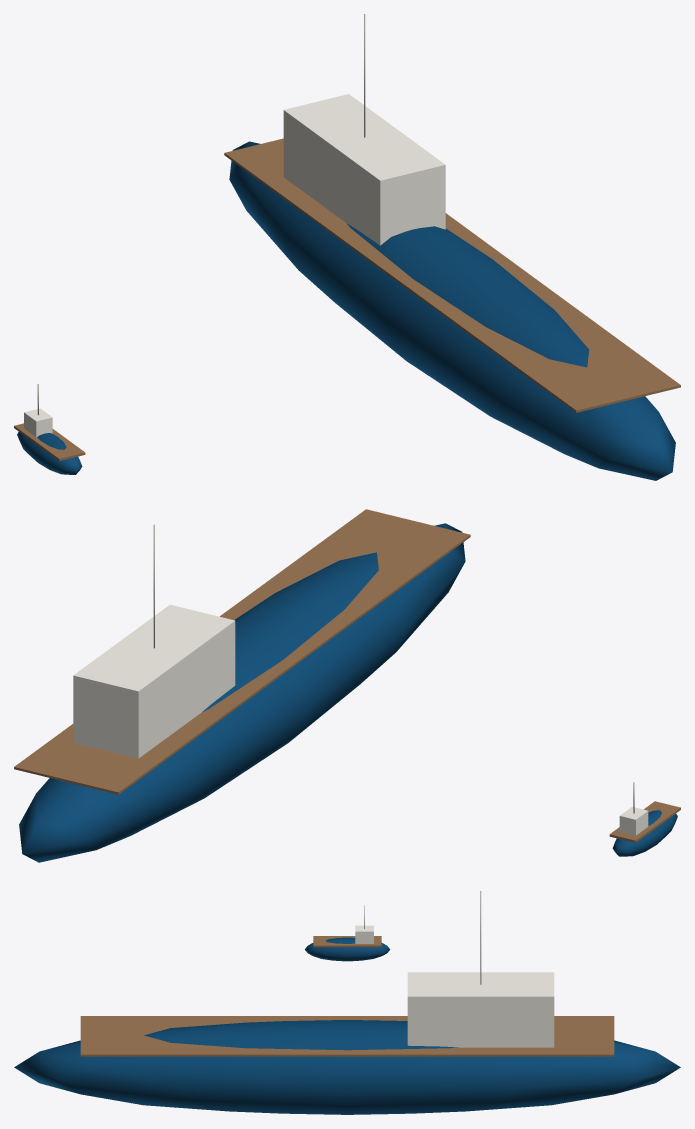
Rendered from Boats_blockout.glb.
3 views of the same model, one above another, from view 1: azimuth 30°, elevation 25°; view 2: azimuth 150°, elevation 25°; view 3: azimuth 270°, elevation 25° (orthographic). The views are drawn at different scales.
Parts seen in each view (by area): view 1: VEH08_Boats_CargoHull_L0, VEH08_Boats_CargoCabin_L0, VEH08_Boats_CargoDeck_L0, VEH08_Boats_FishingHull_L0, VEH08_Boats_FishingDeck_L0; view 2: VEH08_Boats_CargoHull_L0, VEH08_Boats_CargoDeck_L0, VEH08_Boats_CargoCabin_L0, VEH08_Boats_FishingHull_L0, VEH08_Boats_FishingDeck_L0, VEH08_Boats_FishingCabin_L0; view 3: VEH08_Boats_CargoHull_L0, VEH08_Boats_CargoCabin_L0, VEH08_Boats_CargoDeck_L0, VEH08_Boats_FishingHull_L0, VEH08_Boats_FishingDeck_L0, VEH08_Boats_FishingCabin_L0.
Part boxes in pixels (x1,y1,x2,y2): VEH08_Boats_CargoHull_L0: (229,141,675,480); VEH08_Boats_CargoCabin_L0: (283,94,445,245); VEH08_Boats_CargoDeck_L0: (224,138,680,412); VEH08_Boats_FishingHull_L0: (17,432,82,474); VEH08_Boats_FishingDeck_L0: (14,423,85,460); VEH08_Boats_CargoHull_L0: (19,523,465,862); VEH08_Boats_CargoDeck_L0: (14,509,470,794); VEH08_Boats_CargoCabin_L0: (73,604,235,758); VEH08_Boats_FishingHull_L0: (612,810,677,856); VEH08_Boats_FishingDeck_L0: (609,801,680,842); VEH08_Boats_FishingCabin_L0: (619,807,648,835); VEH08_Boats_CargoHull_L0: (14,1020,680,1114); VEH08_Boats_CargoCabin_L0: (407,972,554,1047); VEH08_Boats_CargoDeck_L0: (80,1016,614,1056); VEH08_Boats_FishingHull_L0: (305,937,389,961); VEH08_Boats_FishingDeck_L0: (313,936,381,947); VEH08_Boats_FishingCabin_L0: (355,925,373,943).
Size of the model in its own units: 44.5 by 25.2 by 70.
